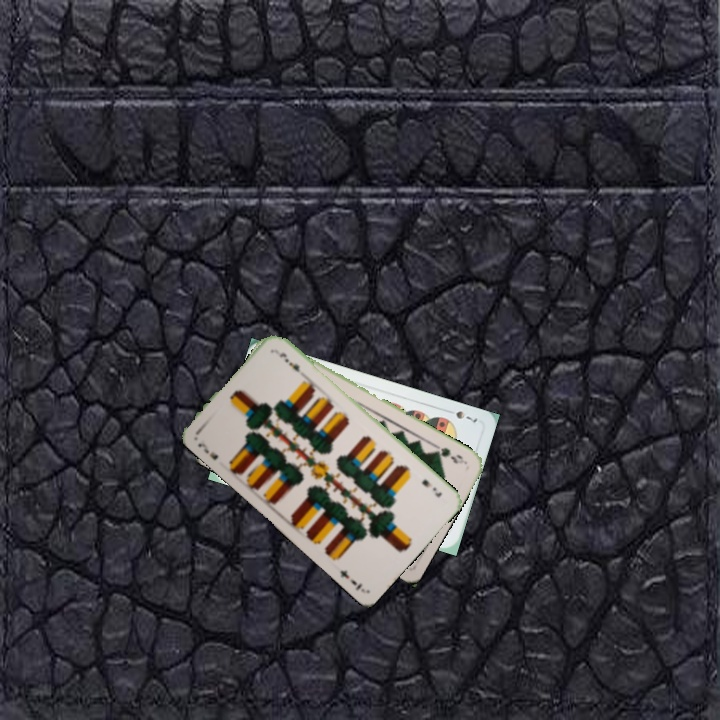E7: (418, 475, 444, 500), (194, 439, 221, 462)
G9: (429, 441, 469, 467)
S7: (442, 405, 480, 425)
